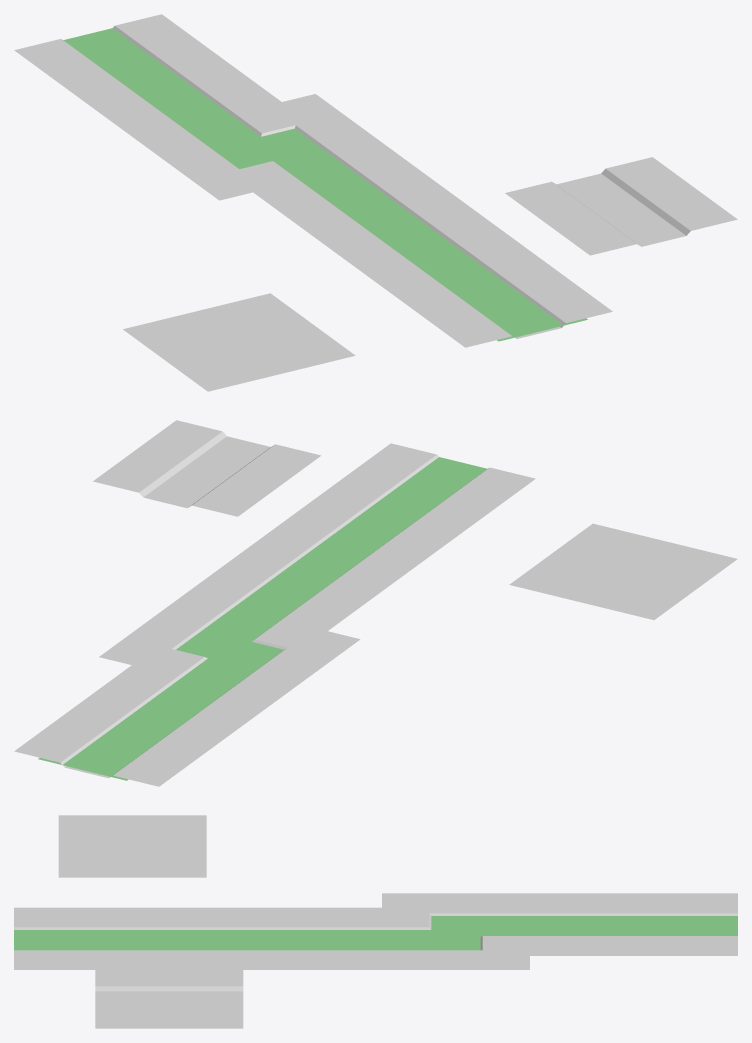
File: Sewer_01.fbx
3 renders of one model, top to bottom at view 1: azimuth 30°, elevation 25°; view 2: azimuth 150°, elevation 25°; view 3: azimuth 270°, elevation 25°, orthographic. The views are drawn at different scales.
Visible parts, largest first — view 1: Floor_drain_S, Water_DrainS, Floor_Drain_1, Floor_Plane_1; view 2: Floor_drain_S, Water_DrainS, Floor_Drain_1, Floor_Plane_1; view 3: Floor_drain_S, Water_DrainS, Floor_Drain_1, Floor_Plane_1.
Part boxes in pixels (x1,y1,x2,y2): Floor_drain_S: [14, 14, 612, 347]; Water_DrainS: [63, 28, 587, 341]; Floor_Drain_1: [505, 157, 737, 255]; Floor_Plane_1: [123, 293, 355, 391]; Floor_drain_S: [14, 443, 535, 786]; Water_DrainS: [38, 457, 487, 780]; Floor_Drain_1: [93, 420, 321, 516]; Floor_Plane_1: [509, 523, 737, 619]; Floor_drain_S: [14, 893, 737, 969]; Water_DrainS: [14, 916, 737, 950]; Floor_Drain_1: [95, 966, 243, 1028]; Floor_Plane_1: [58, 815, 206, 877].
Size of the model in its own units: 74533 by 2894 by 97851.
